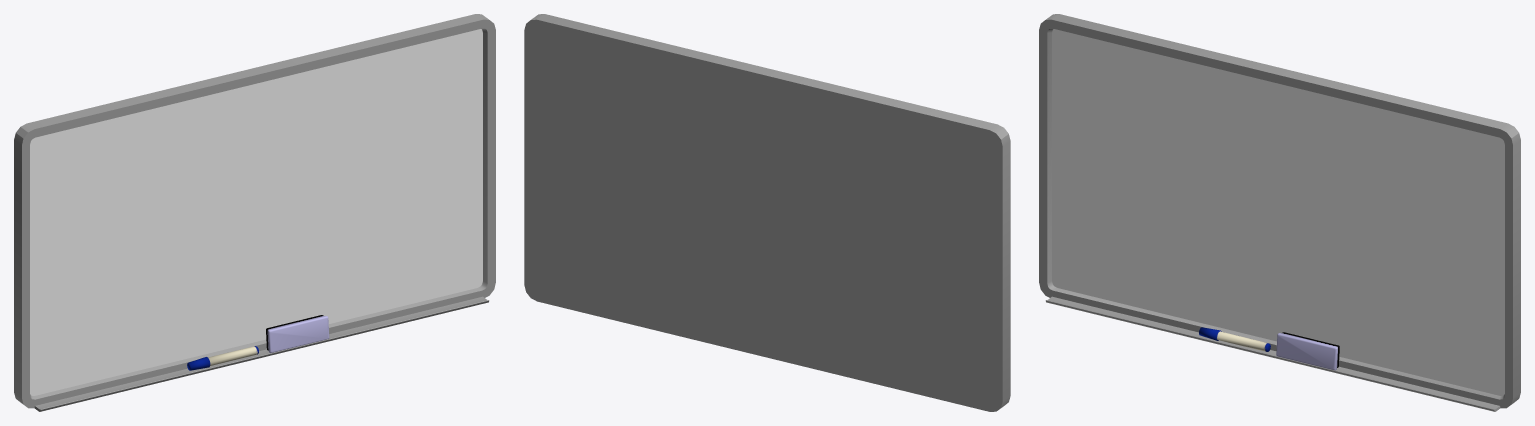
File: WhiteboardV1.fbx
3 renders of one model, left to right at view 1: azimuth 30°, elevation 25°; view 2: azimuth 150°, elevation 25°; view 3: azimuth 330°, elevation 25°, orthographic.
Parts seen in each view (by area): view 1: Cube, Eraser, Pen; view 2: Cube; view 3: Cube, Eraser, Pen.
Part boxes in pixels (x1=…): Cube: x1=14, y1=14, x2=495, y2=411; Eraser: x1=266, y1=315, x2=329, y2=353; Pen: x1=187, y1=346, x2=258, y2=370; Cube: x1=524, y1=14, x2=1010, y2=411; Cube: x1=1039, y1=14, x2=1520, y2=411; Eraser: x1=1276, y1=332, x2=1339, y2=370; Pen: x1=1199, y1=327, x2=1270, y2=351.
Bounding box in the file's own units: 355 × 200 × 18.22.
Materials: 1 (1 with a texture image).
